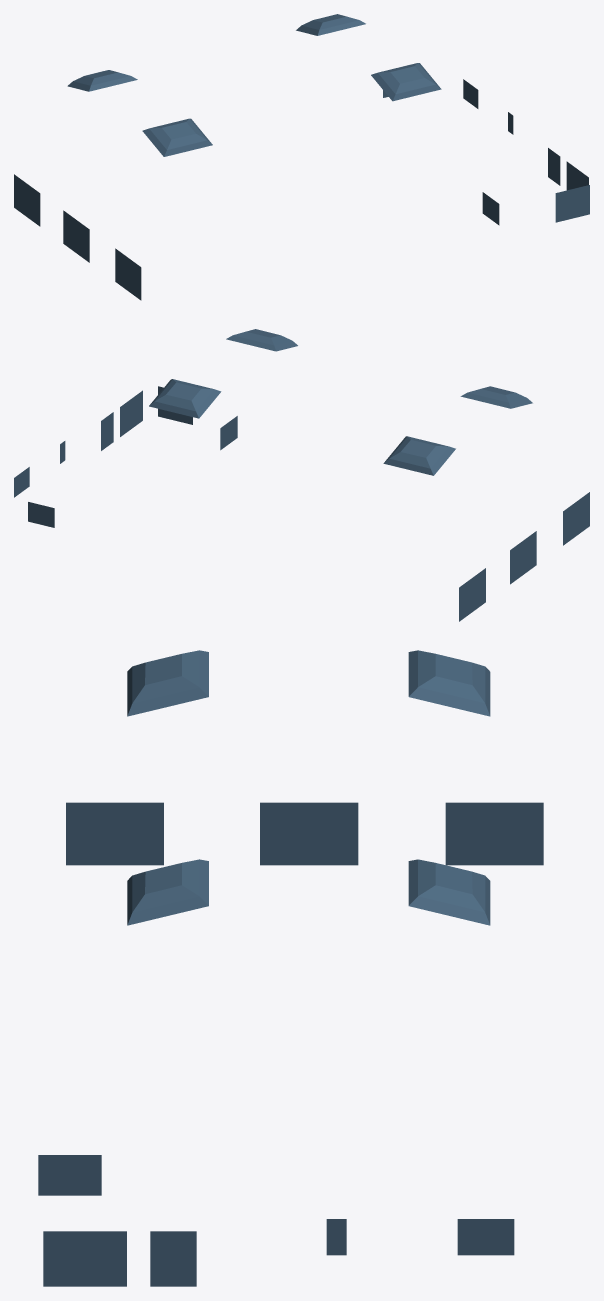
Rendered from SM_Bld_RepairShop_Large_01_Glass.fbx.
The picture shows the model from 3 angles, top to bottom: view 1: azimuth 30°, elevation 25°; view 2: azimuth 150°, elevation 25°; view 3: azimuth 270°, elevation 25°; orthographic projection. The views are drawn at different scales.
Parts seen in each view (by area): view 1: SM_Bld_RepairShop_Large_01_Glass; view 2: SM_Bld_RepairShop_Large_01_Glass; view 3: SM_Bld_RepairShop_Large_01_Glass.
Boxes of the visible parts, left/top/right/bottom form: SM_Bld_RepairShop_Large_01_Glass: left=14, top=14, right=589, bottom=300; SM_Bld_RepairShop_Large_01_Glass: left=14, top=329, right=589, bottom=621; SM_Bld_RepairShop_Large_01_Glass: left=38, top=650, right=543, bottom=1286.
Size of the model in its own units: 2282 by 727 by 1376.
